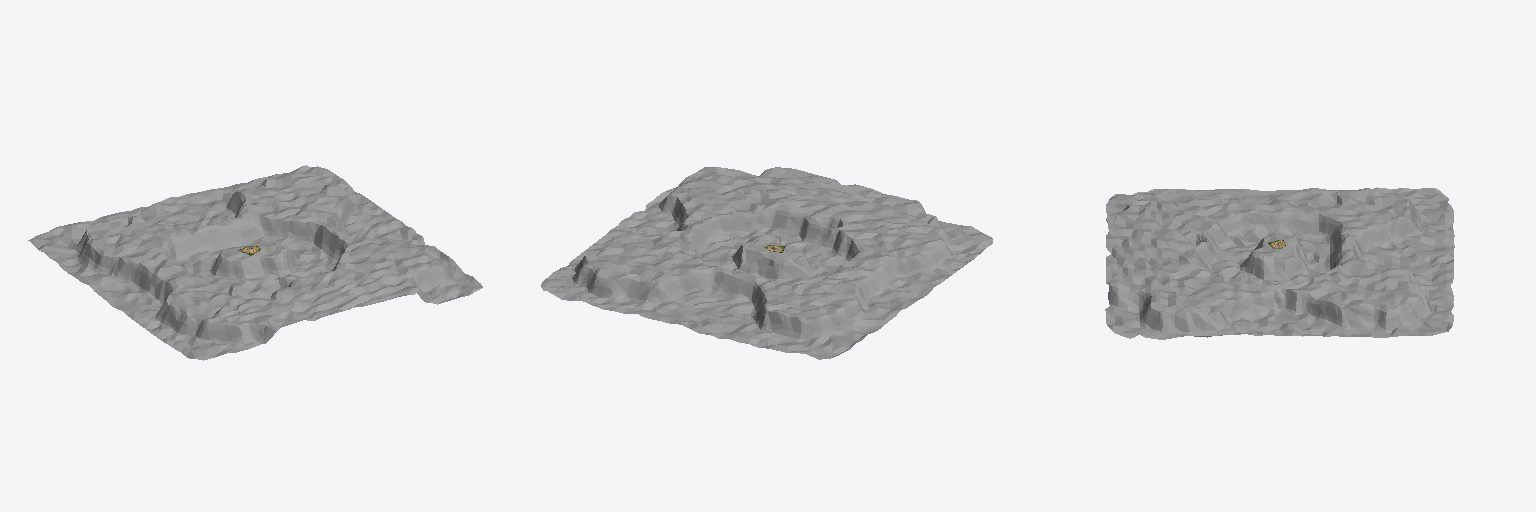
3 views of the same model, side by side, from view 1: azimuth 30°, elevation 25°; view 2: azimuth 150°, elevation 25°; view 3: azimuth 270°, elevation 25° (orthographic).
Bounding box in the file's own units: 61.65 × 4.28 × 61.72.
4 materials, 1 textured.